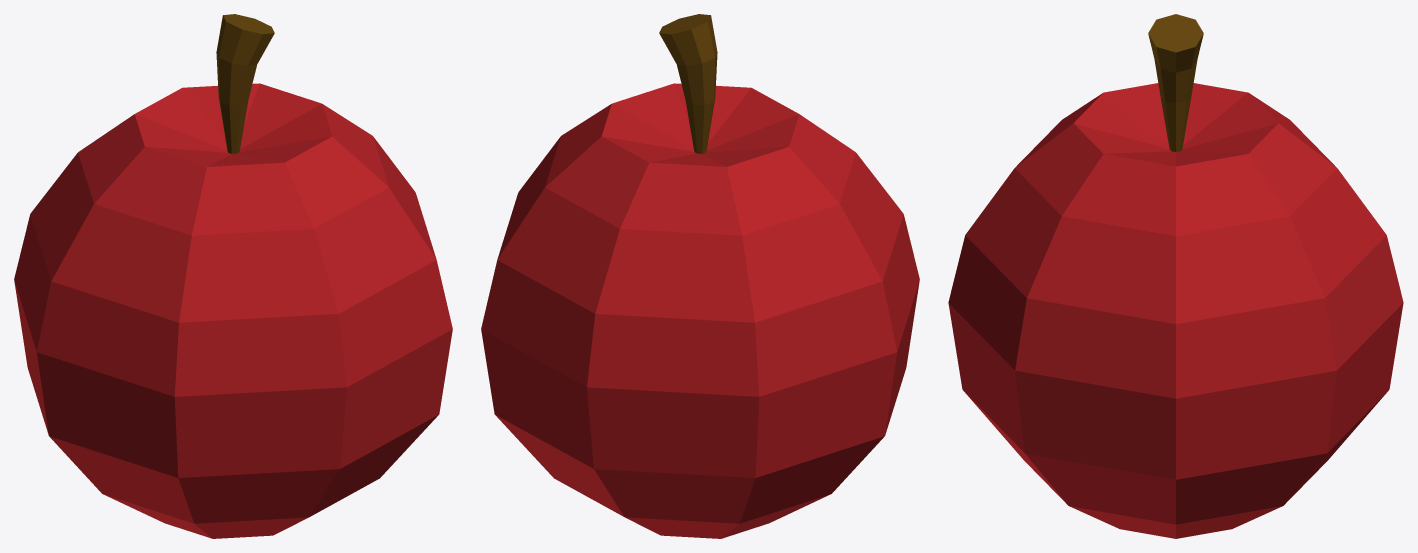
The model's file is manzana.fbx.
3 renders of one model, left to right at view 1: azimuth 30°, elevation 25°; view 2: azimuth 150°, elevation 25°; view 3: azimuth 270°, elevation 25°, orthographic.
Visible parts, largest first — view 1: Sphere, Cylinder; view 2: Sphere, Cylinder; view 3: Sphere, Cylinder.
Boxes of the visible parts, left/top/right/bottom form: Sphere: left=14, top=83, right=452, bottom=538; Cylinder: left=216, top=14, right=274, bottom=153; Sphere: left=481, top=83, right=919, bottom=538; Cylinder: left=659, top=14, right=717, bottom=153; Sphere: left=948, top=83, right=1403, bottom=538; Cylinder: left=1148, top=14, right=1203, bottom=151.
Size of the model in its own units: 150 by 177 by 150.
